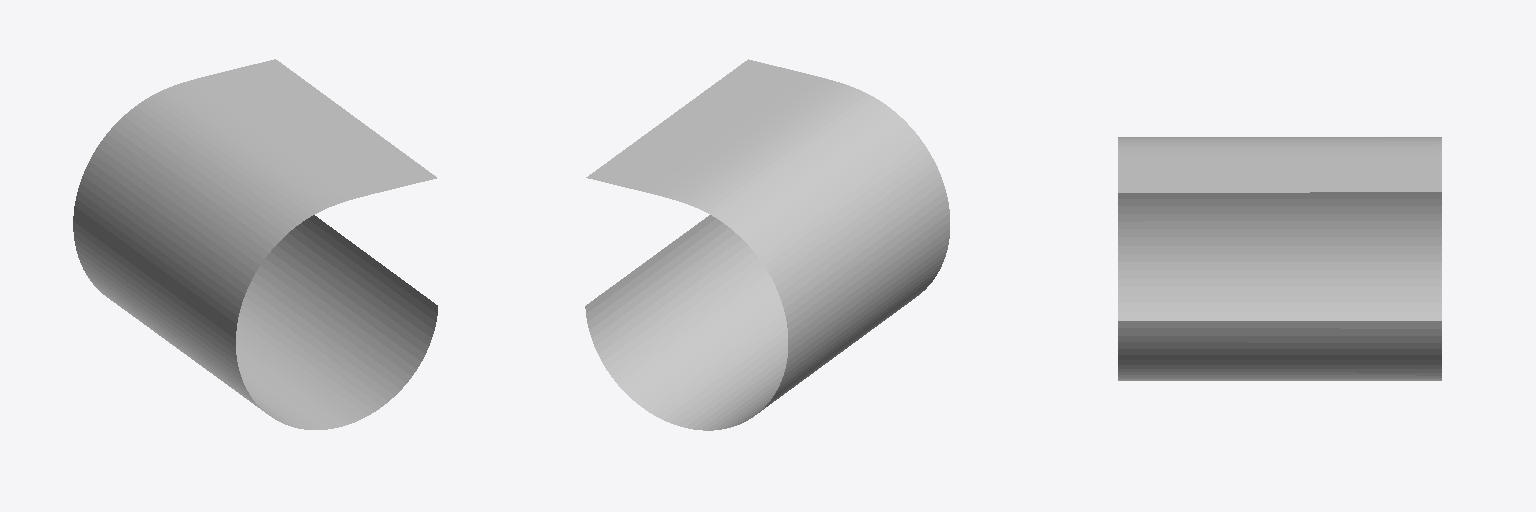
The model's file is CurvePaper_000022.obj.
3 views of the same model, side by side, from view 1: azimuth 30°, elevation 25°; view 2: azimuth 150°, elevation 25°; view 3: azimuth 270°, elevation 25° (orthographic).
Visible parts, largest first — view 1: Plane; view 2: Plane; view 3: Plane.
Boxes of the visible parts, x1=… form: Plane: x1=73, y1=59, x2=437, y2=429; Plane: x1=585, y1=59, x2=949, y2=430; Plane: x1=1118, y1=137, x2=1441, y2=380.
Bounding box in the file's own units: 1.63 × 1.74 × 2.26.